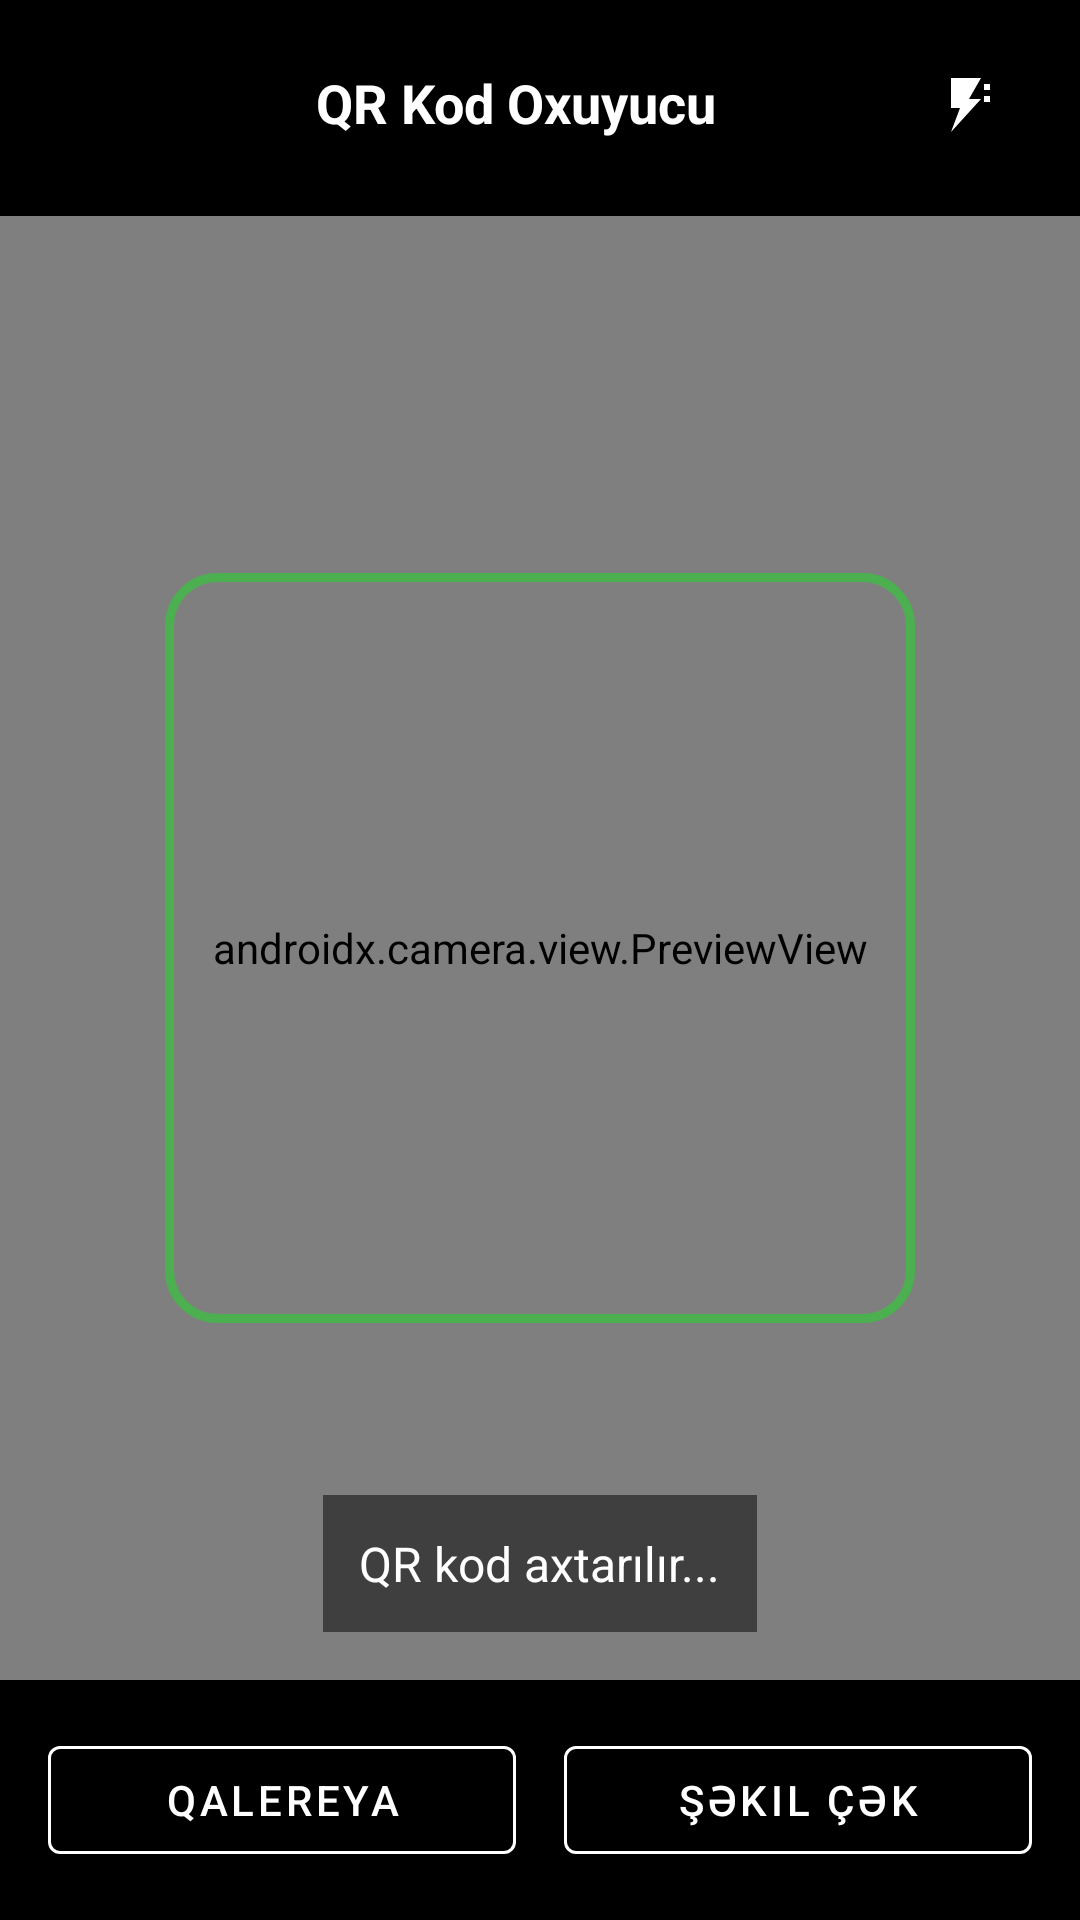

Named icons in this screenshot (1080w x 1920h) and their centers, [x,y]:
flash off: [970,105]
